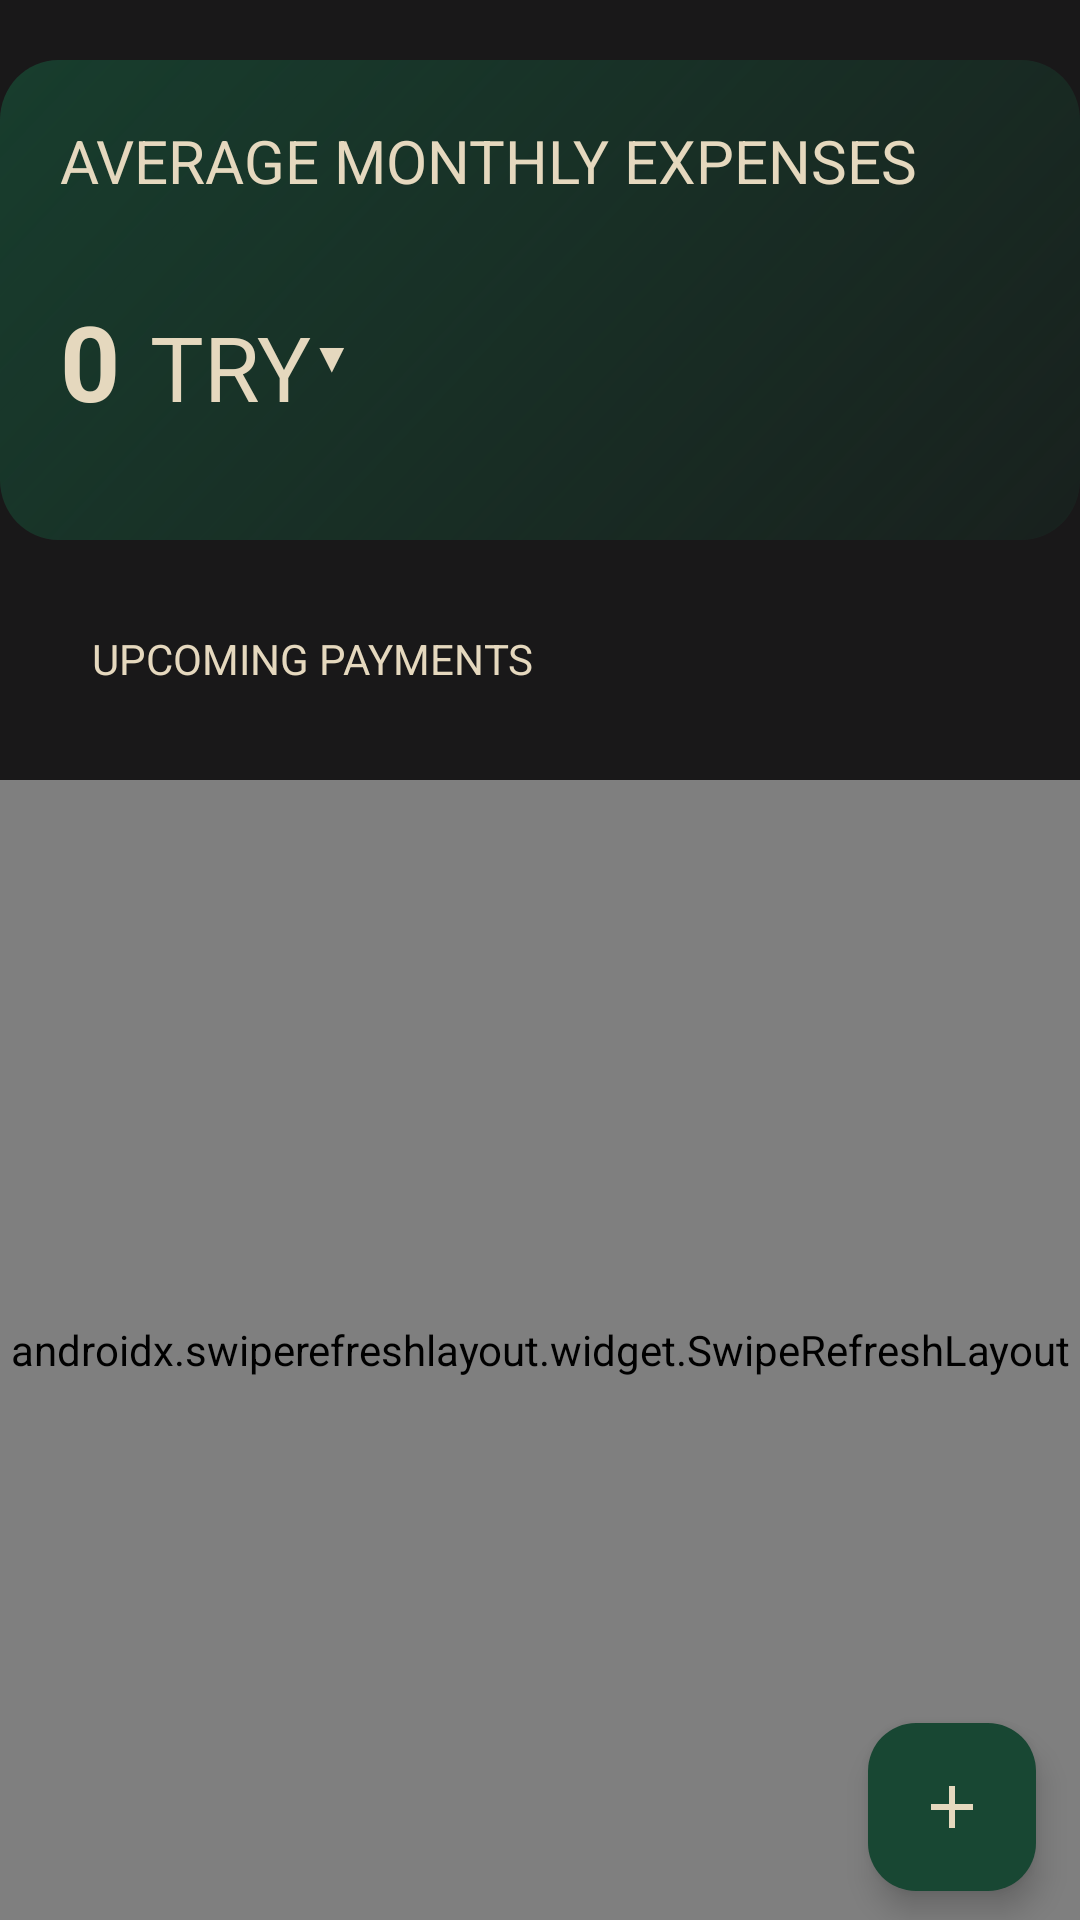

Screen size 1080px×1920px. Icon name, then its box in pixels as (x1, y1, x2, y2):
add: (868, 1723, 1036, 1891)
